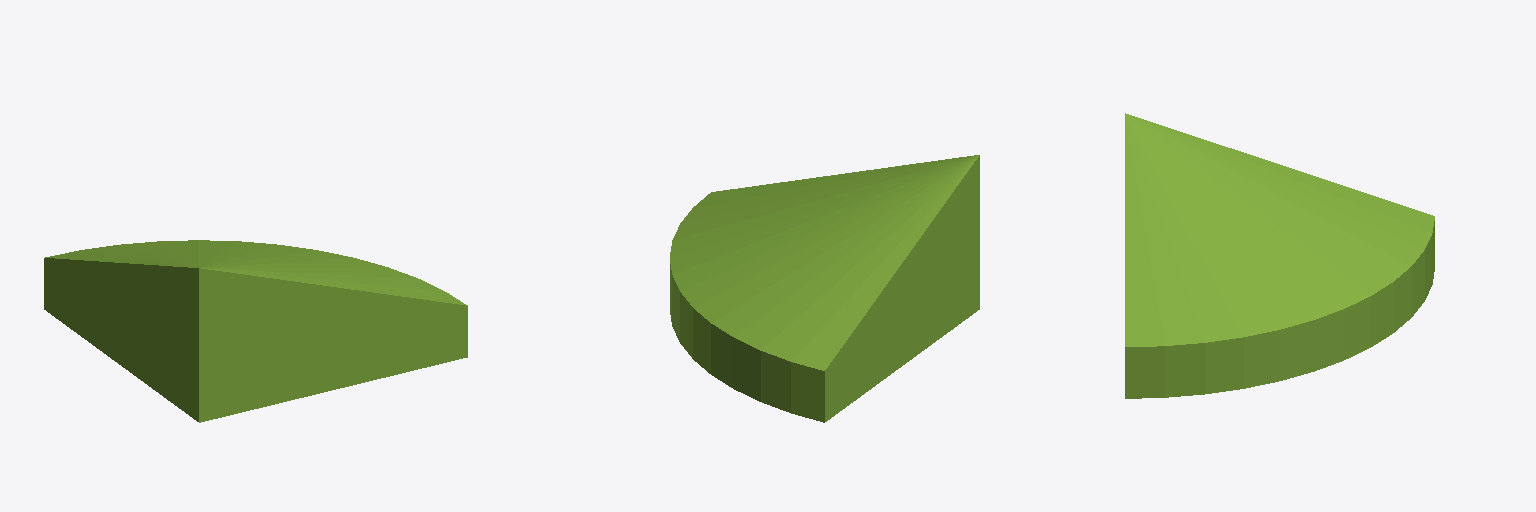
The picture shows the model from 3 angles: view 1: azimuth 30°, elevation 25°; view 2: azimuth 150°, elevation 25°; view 3: azimuth 270°, elevation 25°; orthographic projection.
Parts seen in each view (by area): view 1: roadTile_021.001; view 2: roadTile_021.001; view 3: roadTile_021.001.
Boxes of the visible parts, x1=… form: roadTile_021.001: x1=44, y1=240, x2=467, y2=422; roadTile_021.001: x1=670, y1=155, x2=979, y2=422; roadTile_021.001: x1=1125, y1=113, x2=1434, y2=398.
Size of the model in its own units: 3 by 1.65 by 3.